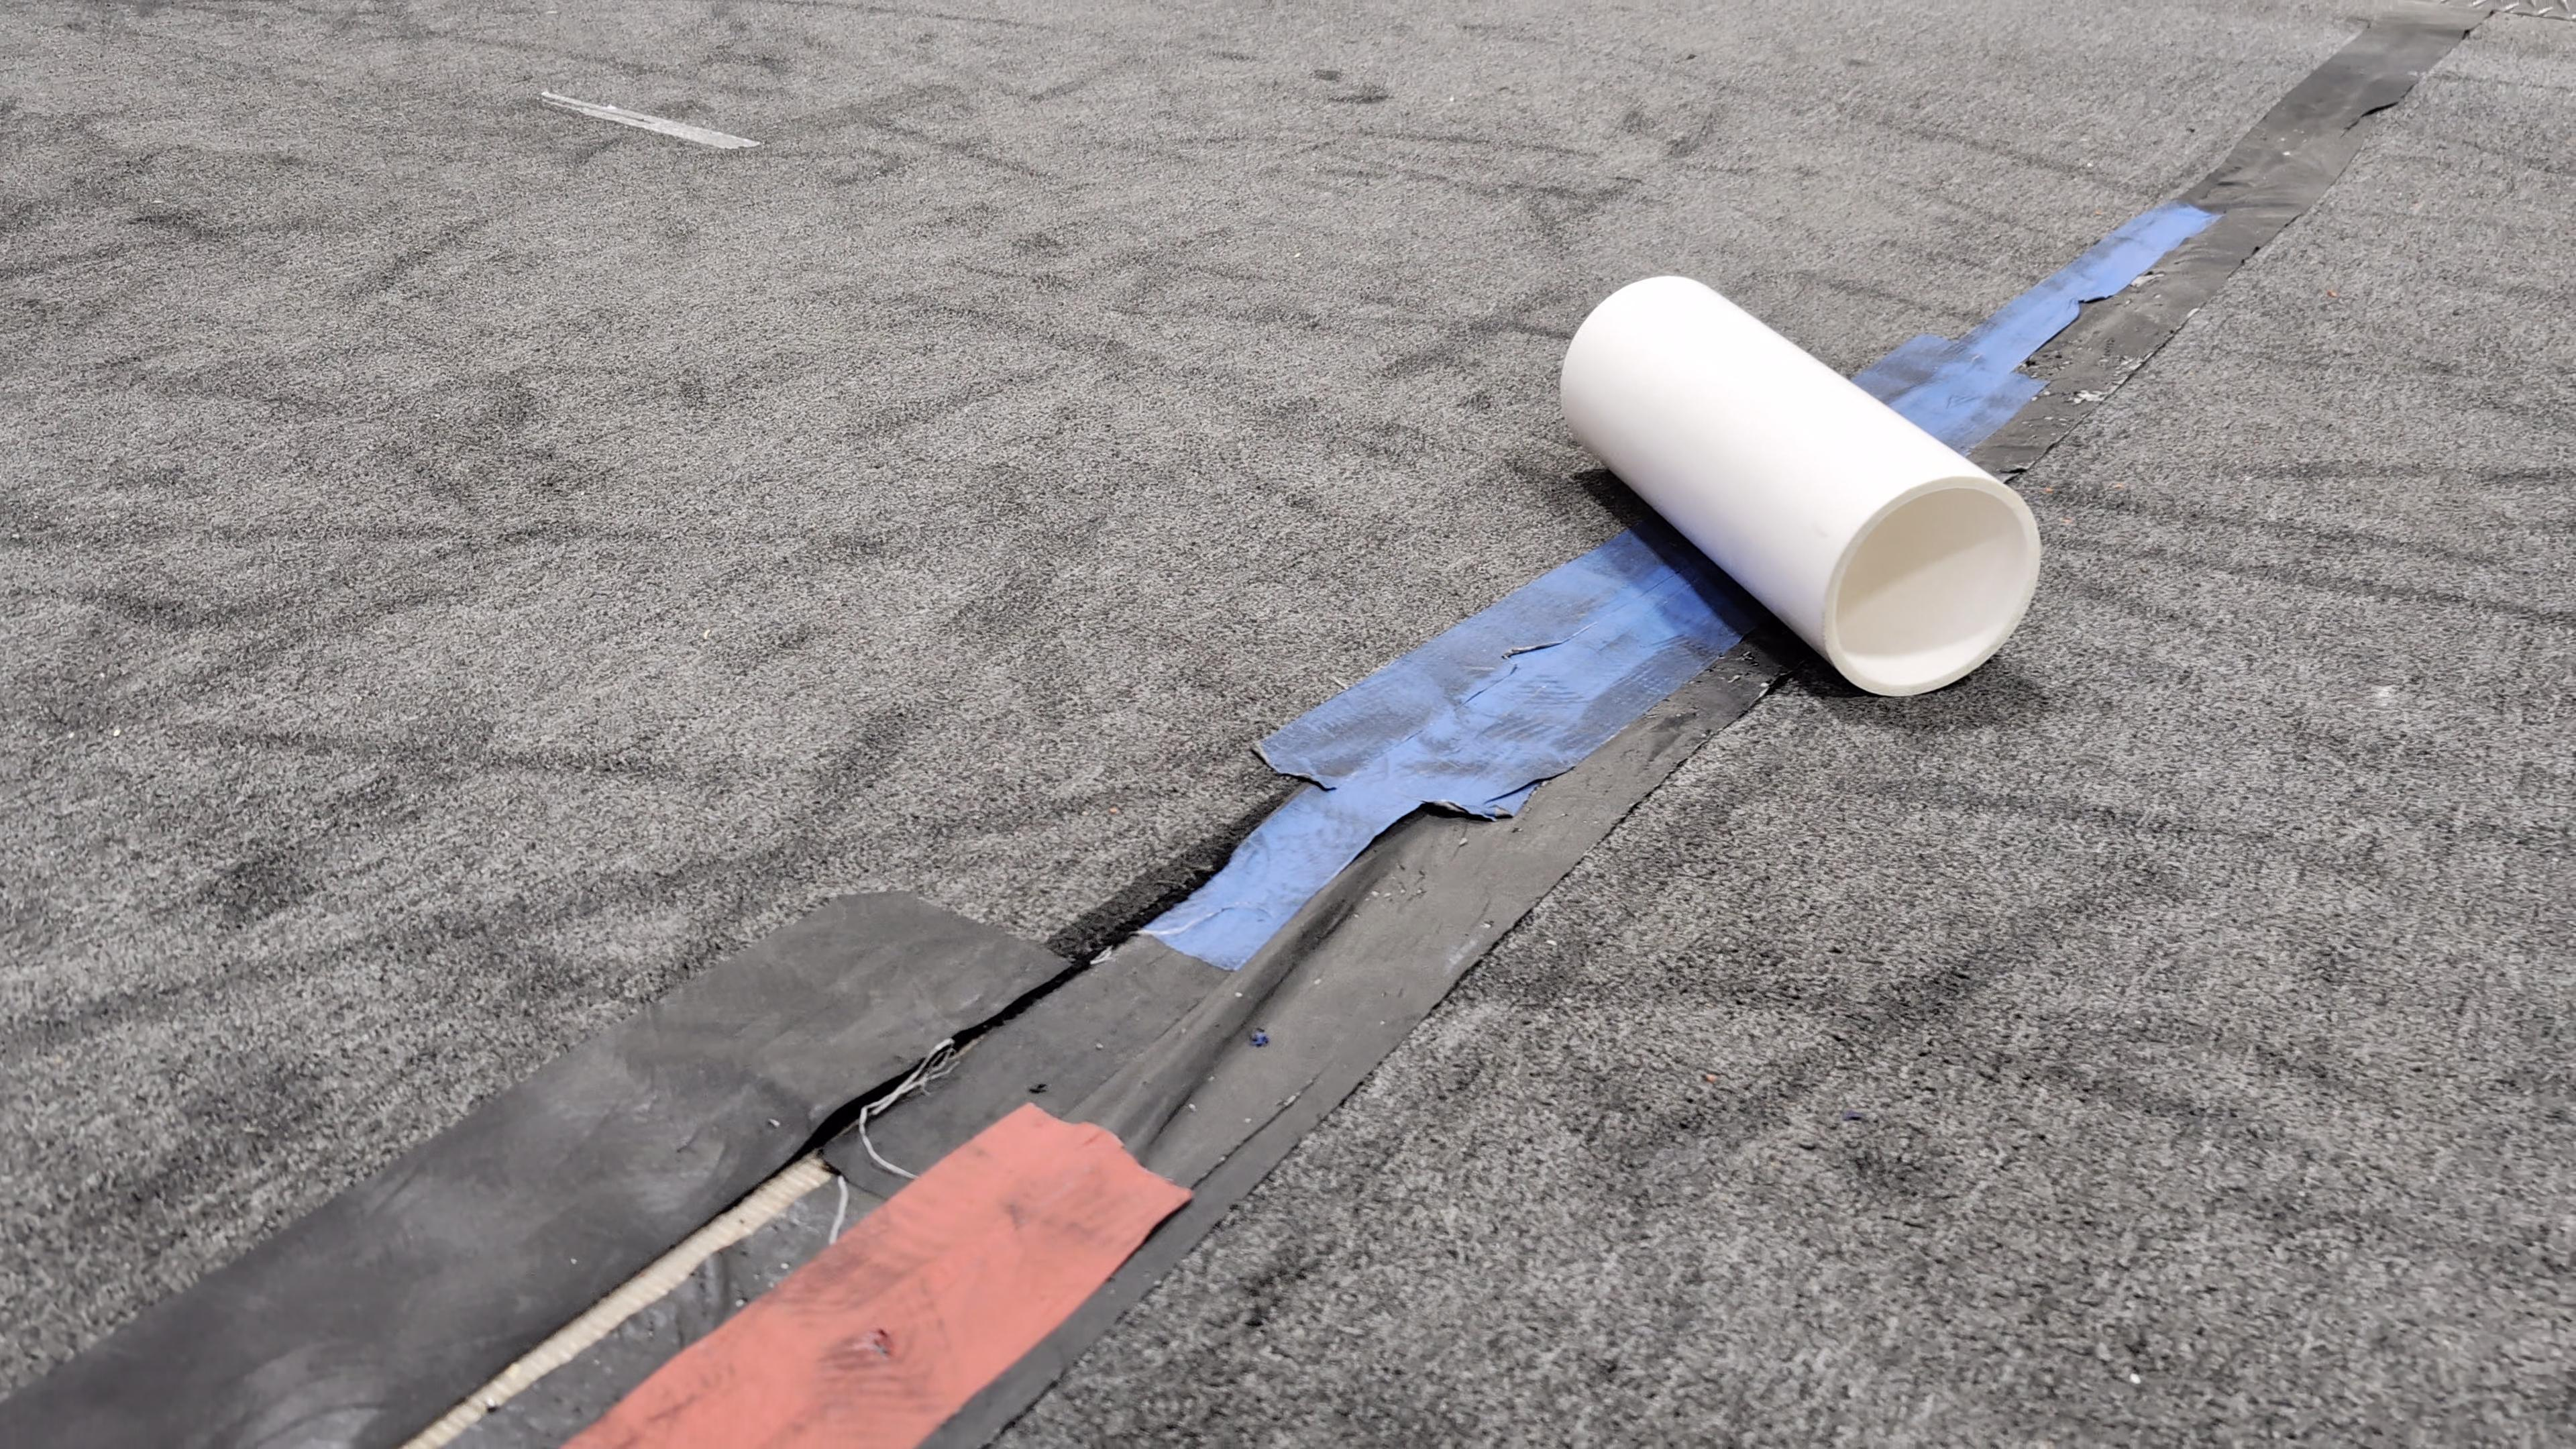coral: (1557, 269, 2043, 699)
